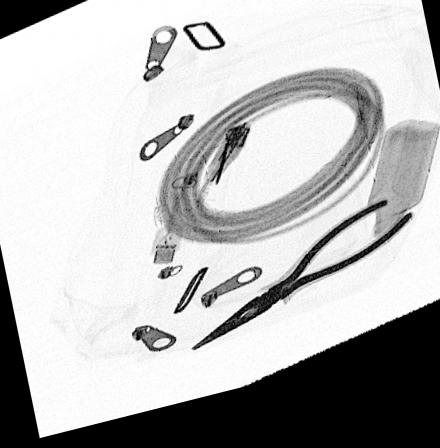Pliers: (188, 214, 417, 364)
